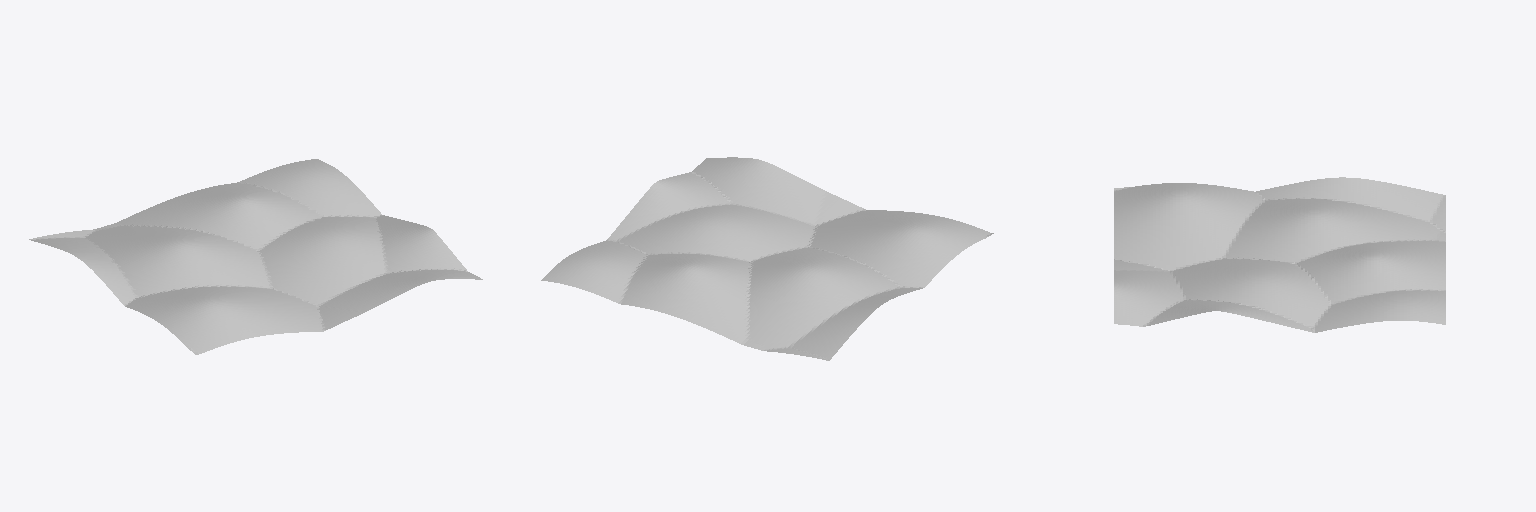
The model's file is grassfield_simple.obj.
3 renders of one model, left to right at view 1: azimuth 30°, elevation 25°; view 2: azimuth 150°, elevation 25°; view 3: azimuth 270°, elevation 25°, orthographic.
Parts seen in each view (by area): view 1: Plane; view 2: Plane; view 3: Plane.
Part boxes in pixels (bbox=[...]): Plane: bbox=[29, 159, 482, 354]; Plane: bbox=[541, 157, 993, 360]; Plane: bbox=[1114, 177, 1445, 332].
Bounding box in the file's own units: 225 × 22.61 × 225.